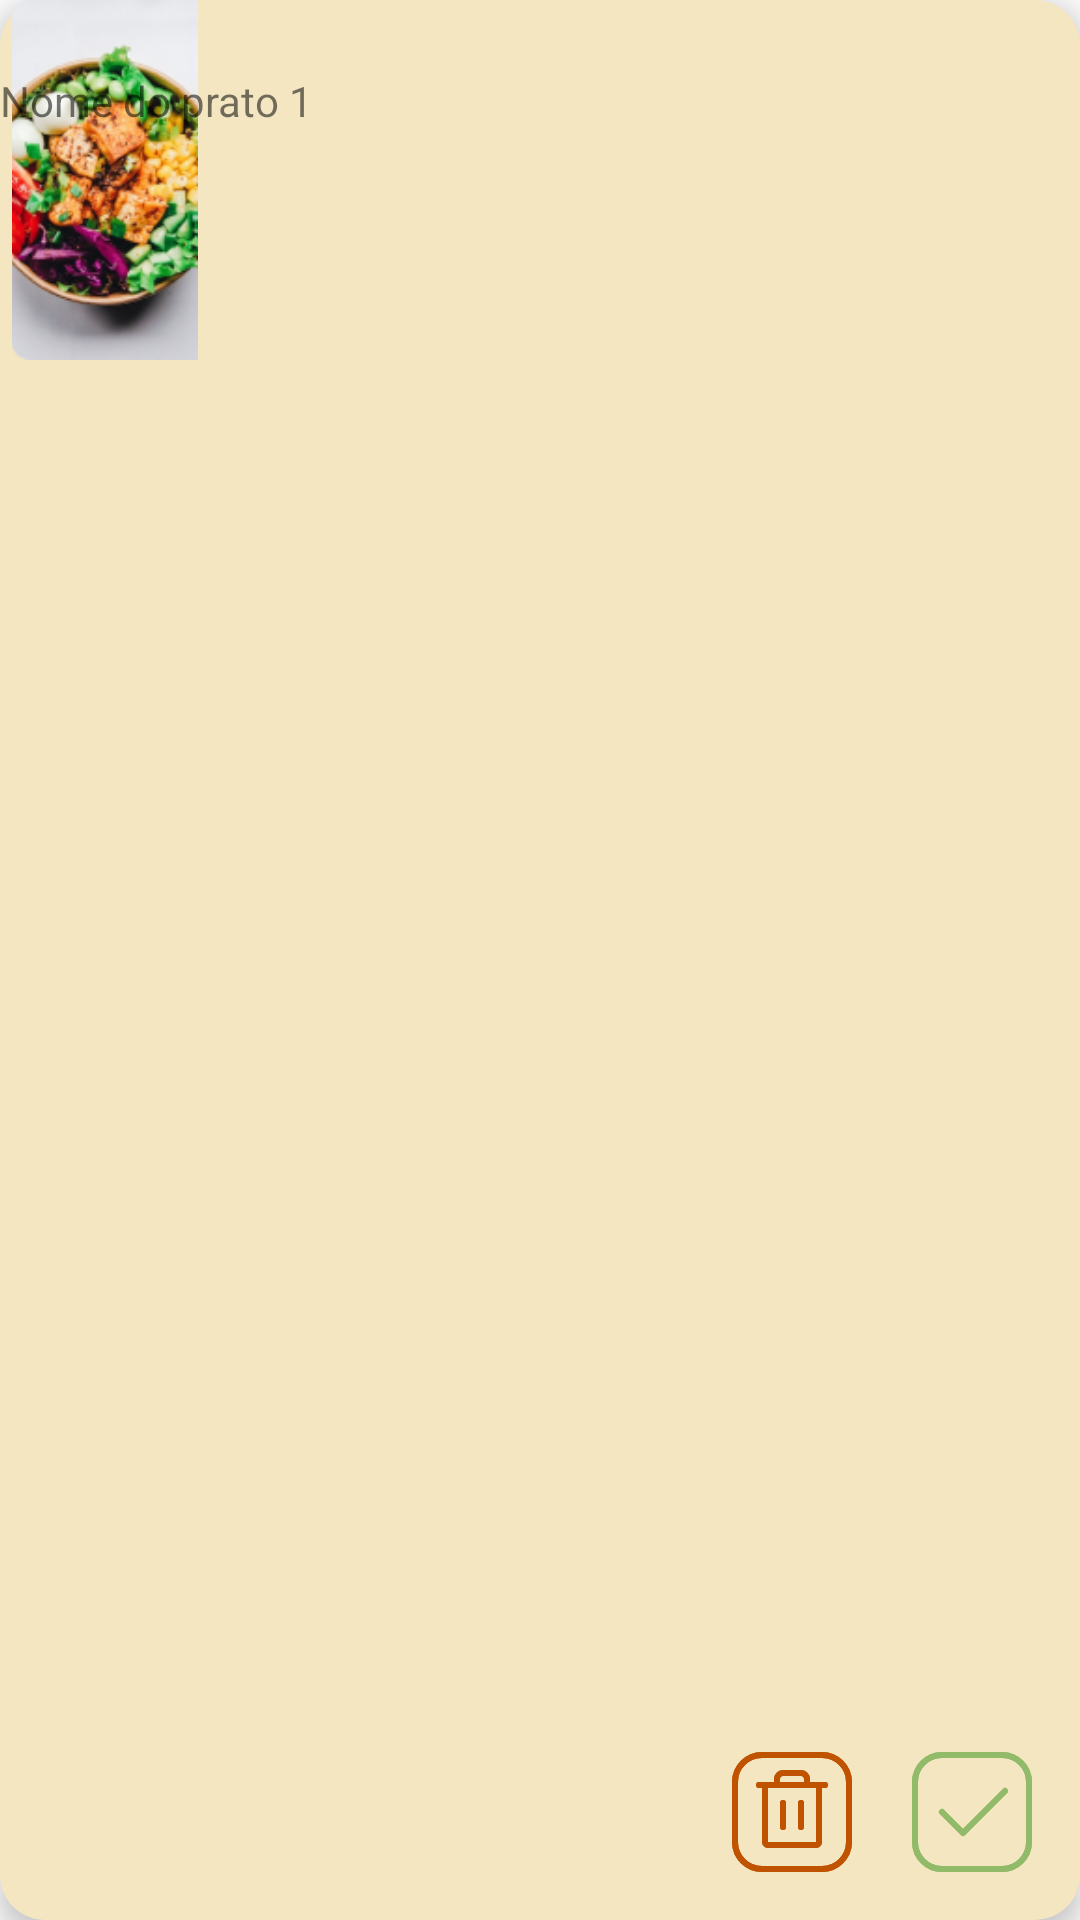

Screen size 1080px×1920px. Icon name, then its center in pixels as point (x, y):
confirm: point (972, 1812)
trash: point (792, 1812)
